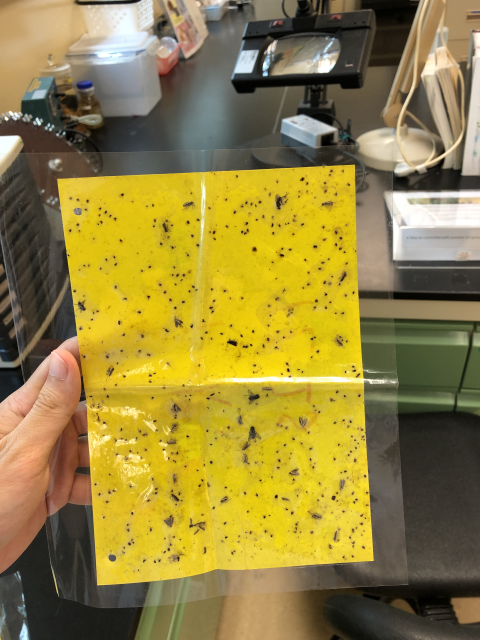DBM: (172, 312, 186, 330), (288, 466, 301, 480), (296, 415, 308, 429), (163, 516, 175, 529), (226, 338, 239, 348), (261, 384, 272, 393), (310, 513, 324, 519)
